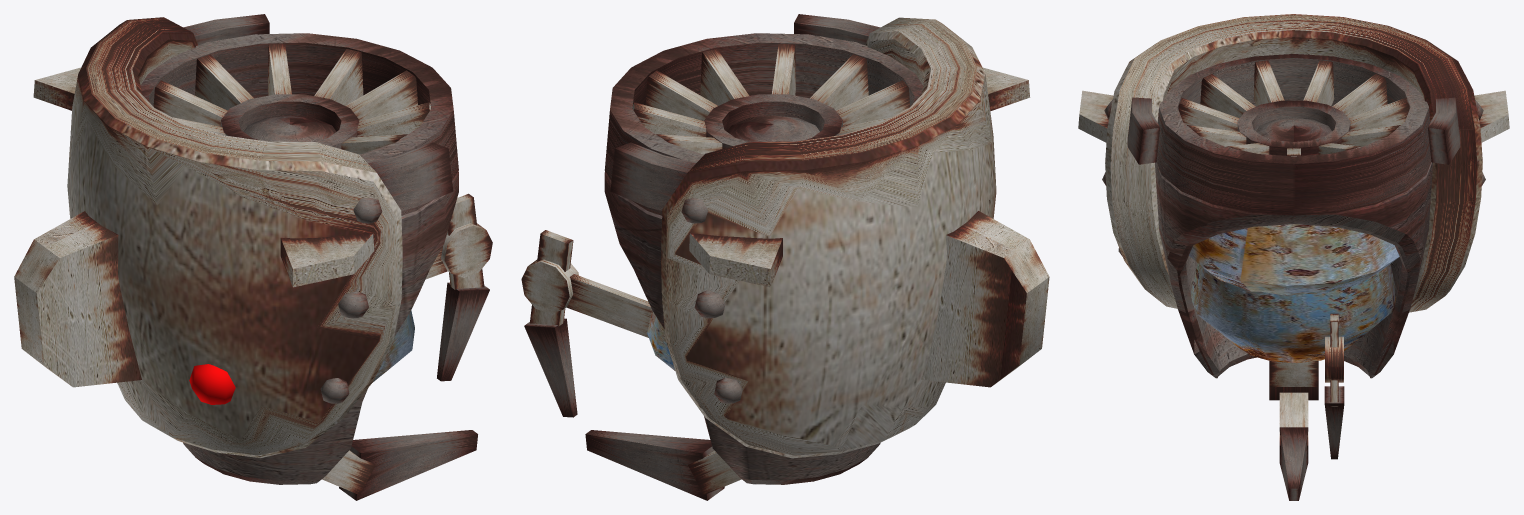
Rendered from static.glb.
3 renders of one model, left to right at view 1: azimuth 30°, elevation 25°; view 2: azimuth 150°, elevation 25°; view 3: azimuth 270°, elevation 25°, orthographic. The views are drawn at different scales.
Visible parts, largest first — view 1: Extrude, Cube_2_3, Tube, Boole, Cube_4_2, Cube_1_2, Cube_2_2, Tube_1, Cube_2, Cylinder, Cube_5, Sphere_3 (+13 smaller); view 2: Extrude, Cube_2_3, Tube, Boole, Cube_4_2, Cube_1_2, Cube_2_2, Tube_1, Cube_3, Cube_2, Cylinder, Cube_5 (+12 smaller); view 3: Extrude, Tube, Boole, Cylinder_5, Cylinder_3, Cube_4_2, Tube_1, Cube_1_2, Cube_2_2, Cube, Sphere_3, Cube_9 (+11 smaller).
Part boxes in pixels (box(x1,y1,x2,y2)): Extrude: box(67, 17, 402, 457); Cube_2_3: box(14, 211, 141, 387); Tube: box(140, 33, 458, 215); Boole: box(183, 171, 458, 484); Cube_4_2: box(183, 14, 453, 210); Cube_1_2: box(33, 67, 374, 287); Cube_2_2: box(339, 430, 477, 500); Tube_1: box(220, 94, 359, 148); Cube_2: box(437, 282, 489, 381); Cylinder: box(441, 223, 492, 277); Cube_5: box(346, 70, 417, 121); Sphere_3: box(244, 115, 336, 141); Extrude: box(661, 17, 996, 458); Cube_2_3: box(921, 211, 1049, 387); Tube: box(604, 33, 922, 215); Boole: box(604, 171, 880, 484); Cube_4_2: box(610, 14, 880, 210); Cube_1_2: box(689, 67, 1030, 287); Cube_2_2: box(585, 430, 724, 500); Tube_1: box(704, 94, 842, 148); Cube_3: box(566, 274, 651, 337); Cube_2: box(524, 318, 577, 417); Cylinder: box(521, 259, 578, 313); Cube_5: box(645, 70, 717, 120); Extrude: box(1105, 14, 1482, 312); Tube: box(1156, 54, 1431, 215); Boole: box(1155, 162, 1432, 378); Cylinder_5: box(1191, 263, 1395, 363); Cylinder_3: box(1189, 224, 1399, 295); Cube_4_2: box(1127, 97, 1460, 164); Tube_1: box(1237, 100, 1350, 155); Cube_1_2: box(1078, 90, 1509, 142); Cube_2_2: box(1279, 427, 1308, 500); Cube: box(1269, 361, 1318, 400); Sphere_3: box(1256, 117, 1331, 141); Cube_9: box(1200, 74, 1255, 118).
Bounding box in the file's own units: 1.51 × 1.29 × 1.42.
Materials: 4 (4 with a texture image).
